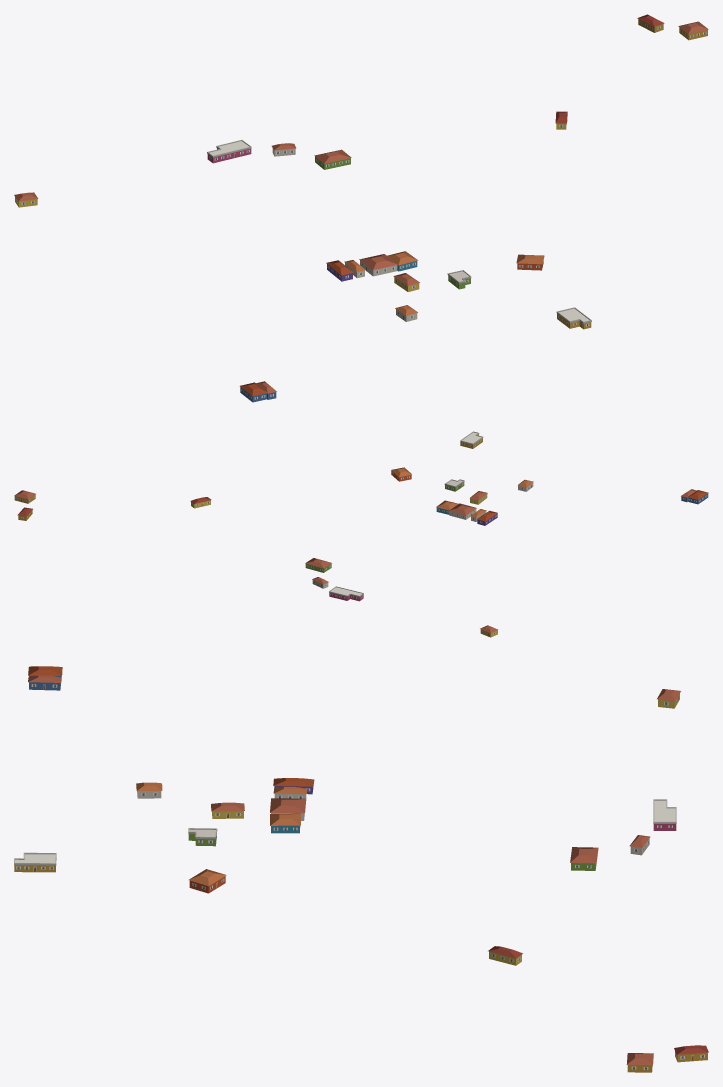
File: msb_oranjestad_m15_m4.glb
3 renders of one model, top to bottom at view 1: azimuth 30°, elevation 25°; view 2: azimuth 150°, elevation 25°; view 3: azimuth 270°, elevation 25°, orthographic. The views are drawn at different scales.
Parts seen in each view (by area): view 1: msb_oranjestad_m15_m4_lod0; view 2: msb_oranjestad_m15_m4_lod0; view 3: msb_oranjestad_m15_m4_lod0.
Part boxes in pixels (bbox=[...]): msb_oranjestad_m15_m4_lod0: bbox=[14, 14, 708, 402]; msb_oranjestad_m15_m4_lod0: bbox=[14, 431, 708, 637]; msb_oranjestad_m15_m4_lod0: bbox=[14, 666, 708, 1072].
Size of what is drawn, in the model's own units: 393 by 15.15 by 278.
Materials: 3 (1 with a texture image).
